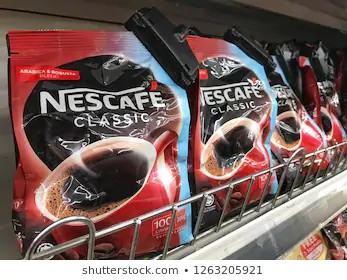nescafe-classic/gold-big: (8, 30, 191, 259), (197, 38, 270, 234)
